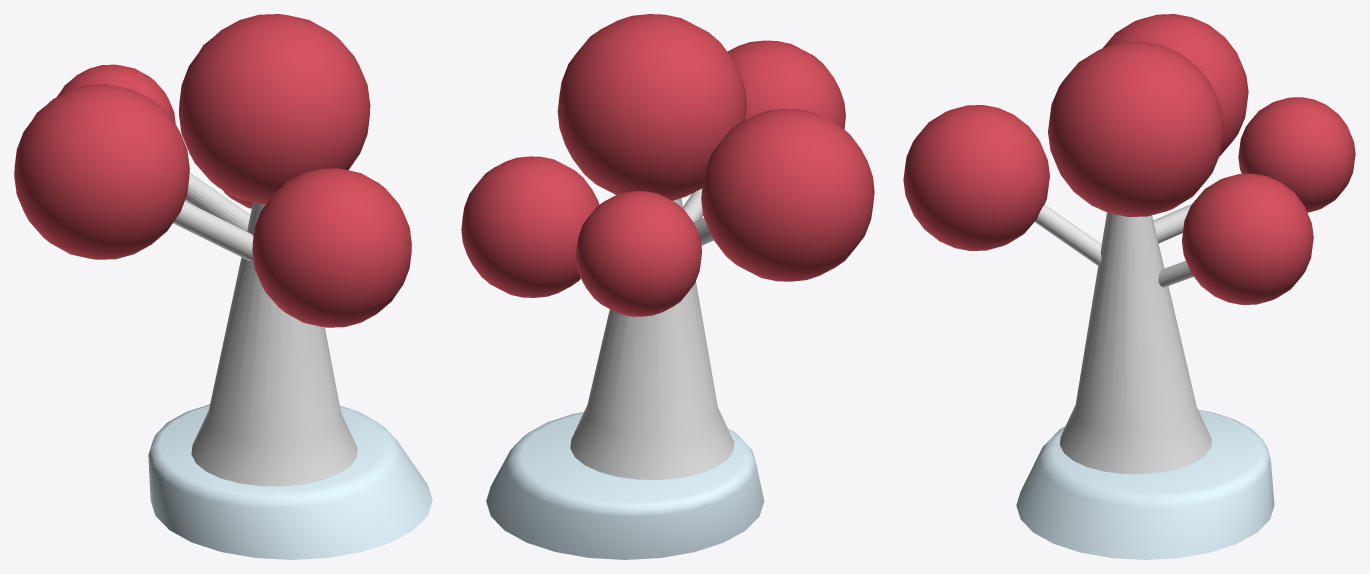
File: Arbol.fbx
3 renders of one model, left to right at view 1: azimuth 30°, elevation 25°; view 2: azimuth 150°, elevation 25°; view 3: azimuth 270°, elevation 25°, orthographic. The views are drawn at different scales.
Visible parts, largest first — view 1: Arbol; view 2: Arbol; view 3: Arbol.
Part boxes in pixels (x1,y1,x2,y2): Arbol: [14, 14, 432, 559]; Arbol: [461, 14, 874, 559]; Arbol: [903, 14, 1355, 559].
Size of the model in its own units: 323 by 352 by 284.
